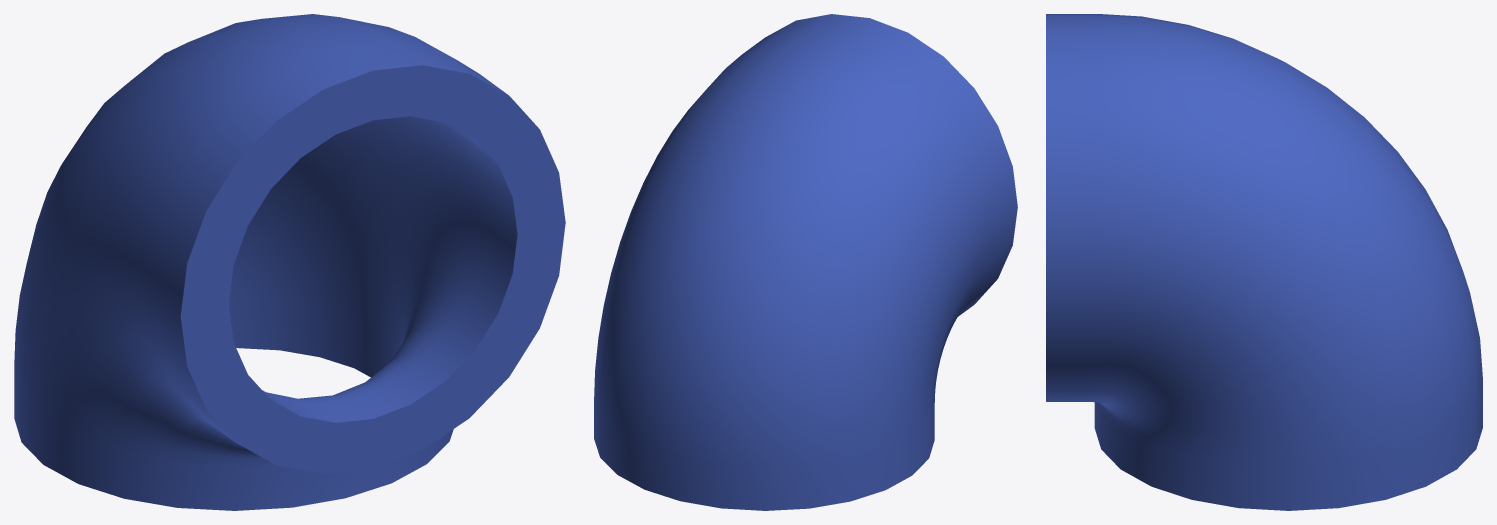
File: blaster-pipe.obj
3 views of the same model, side by side, from view 1: azimuth 30°, elevation 25°; view 2: azimuth 150°, elevation 25°; view 3: azimuth 270°, elevation 25° (orthographic). The views are drawn at different scales.
Parts seen in each view (by area): view 1: pipe_smallBend; view 2: pipe_smallBend; view 3: pipe_smallBend.
Boxes of the visible parts, left/top/right/bottom form: pipe_smallBend: left=14, top=14, right=565, bottom=510; pipe_smallBend: left=594, top=14, right=1017, bottom=510; pipe_smallBend: left=1046, top=14, right=1482, bottom=510.
Bounding box in the file's own units: 1.94 × 2.16 × 2.16.
1 material, 1 textured.
